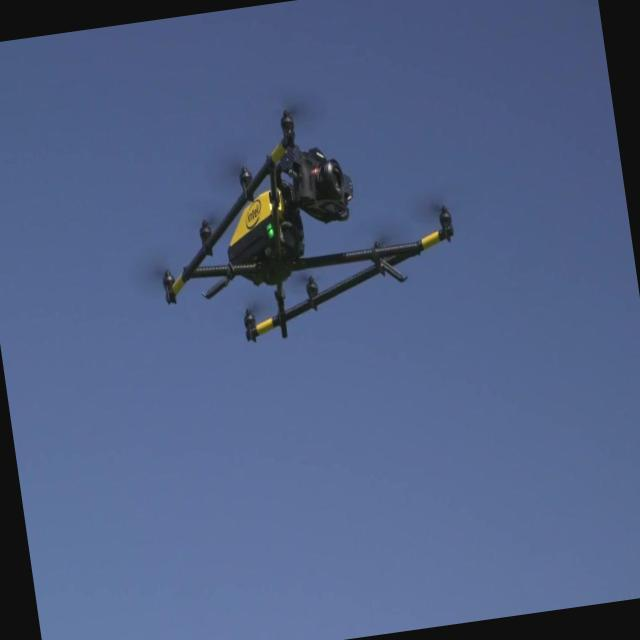drone: (138, 83, 470, 357)
